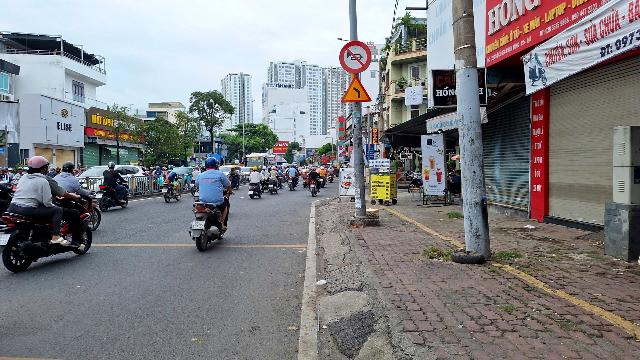cam-bop-coi: (339, 40, 372, 74)
cho-ngoat-nguy-hiem-ben-trai: (340, 74, 372, 103)
